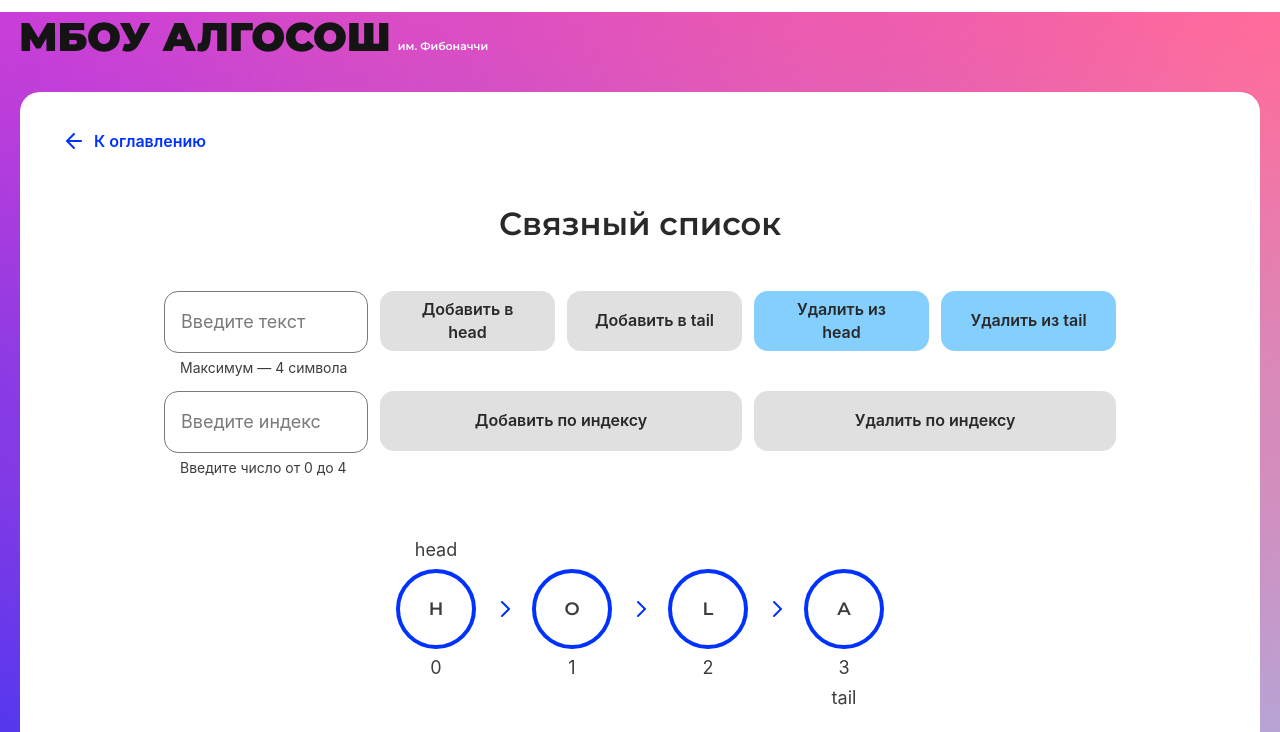
it: List page › should visualize an element adding to a tail correctly
In the field with test id "value-input": [266, 322] box [164,291,368,353], type "1"
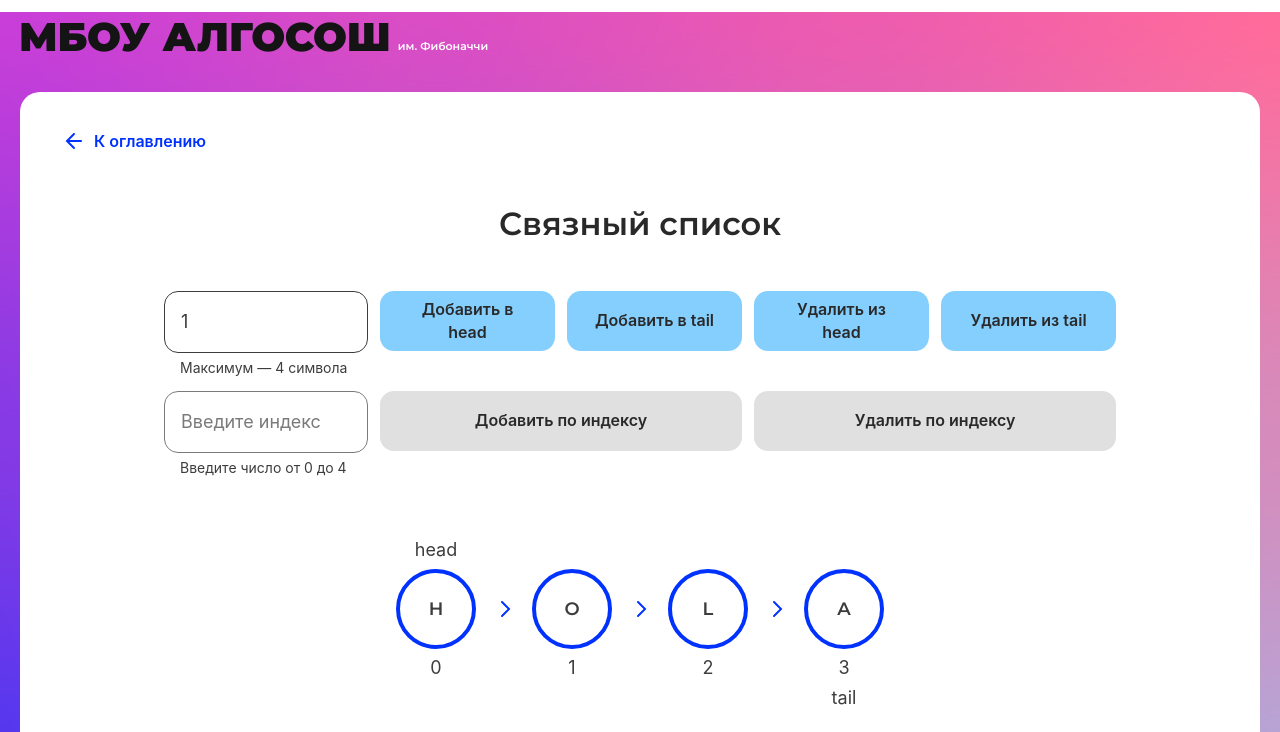
Click the button with test id "add-tail-button": [655, 321] box [567,291,742,351]
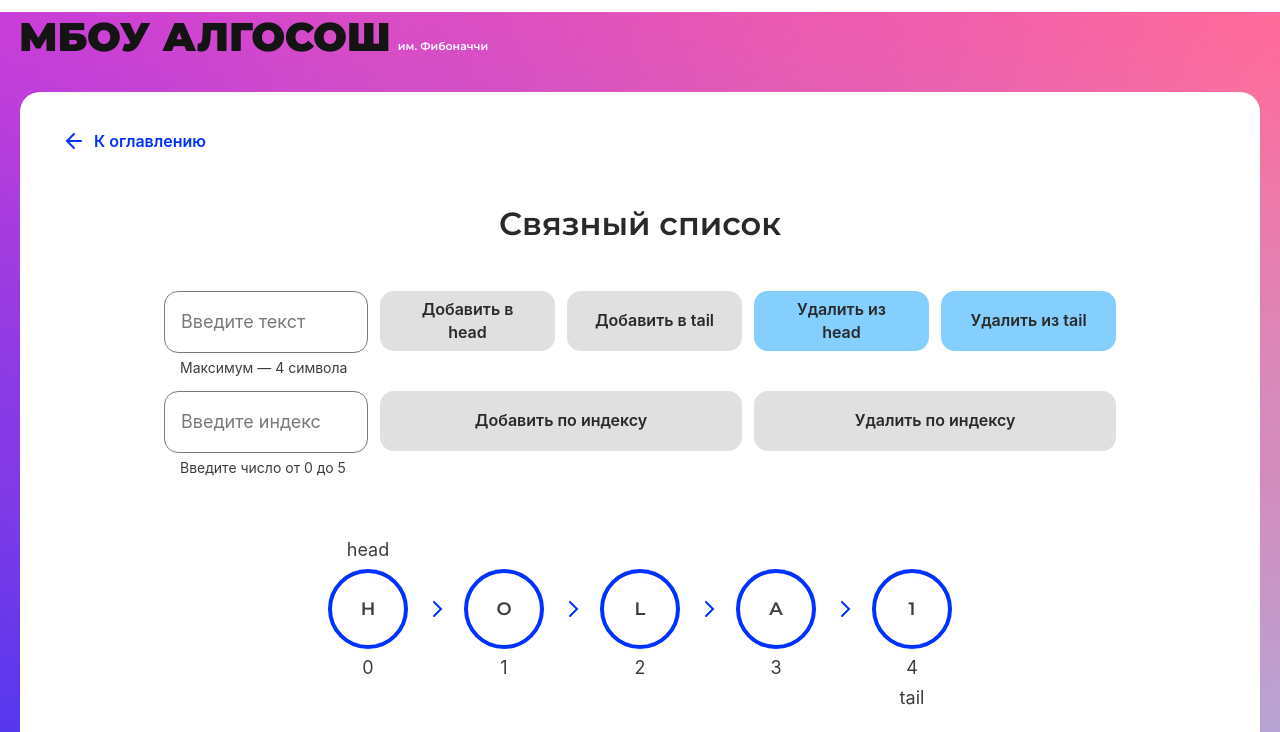
Check: the text with test id "tail" reads "tail", box [900,687,925,708]
Check: the number of elements with test id "circle-core" is 5, box [328,569,408,649]; [464,569,544,649]; [600,569,680,649]; [736,569,816,649]; [872,569,952,649]
Check: the text with test id "circle-core" reads "1", box [909,598,916,620]
